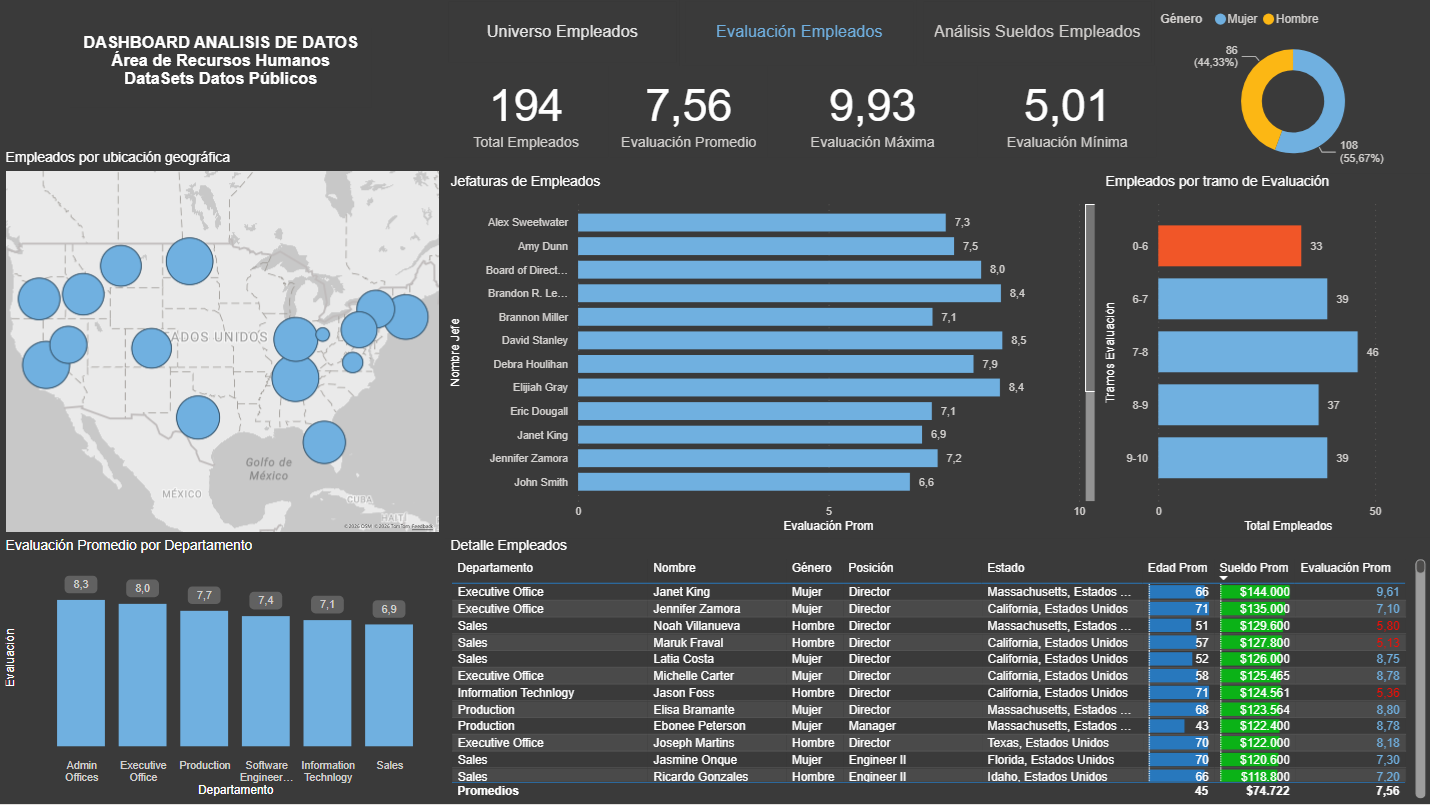

The page's visual inventory and layout, read from the dashboard file:
{"tool":"powerbi","page":{"name":"Evaluación Empleados","canvas":[1280,720],"ordinal":1},"visuals":[{"type":"tableEx","title":"Detalle Empleados","fields":{"Values":["Tabla Empleados.Departamento","Tabla Empleados.Nombre","Tabla Empleados.Géneros","Tabla Empleados.Posición","Tabla Empleados.Estado","Tabla Empleados.Edad Prom","Tabla Sueldo.Sueldo Promedio","Tabla Evaluacion.Evaluación Promedio"]},"box":[397.7,482.9,881.9,237.6],"z":0},{"type":"card","fields":{"Values":["Tabla Empleados.Total Empleados"]},"box":[397.5,61,146.9,81.7],"z":1000},{"type":"donutChart","fields":{"Category":["Tabla Empleados.Género_ES"],"Y":["Tabla Empleados.Total Empleados"]},"box":[1032.7,0,246.8,157.5],"z":2000},{"type":"card","fields":{"Values":["Max(Tabla Evaluacion.Evaluación)"]},"box":[686.9,61,187.2,81.7],"z":3000},{"type":"card","fields":{"Values":["Tabla Evaluacion.Evaluación "]},"box":[545.2,60.6,140.8,81.8],"z":4000},{"type":"card","fields":{"Values":["Min(Tabla Evaluacion.Evaluación)"]},"box":[874.9,61,159.7,81.7],"z":5000},{"type":"barChart","title":"Jefaturas de Empleados","fields":{"Category":["Tabla Empleados.Nombre Jefe"],"Y":["Tabla Evaluacion.Evaluación Prom"]},"box":[398.2,157.5,586,325.6],"z":6000},{"type":"azureMap","title":"Empleados por ubicación geográfica","fields":{"Category":["Tabla Empleados.Estado"],"Size":["Tabla Evaluacion.Evaluación Prom"]},"box":[0,135.6,397.7,347.3],"z":7000},{"type":"columnChart","title":"Evaluación Promedio por Departamento","fields":{"Category":["Tabla Empleados.Departamento"],"Y":["Tabla Evaluacion.Evaluación Prom"]},"box":[0,482.9,397.7,236.3],"z":8000},{"type":"barChart","title":"Empleados por tramo de Evaluación","fields":{"Category":["Tabla Evaluacion.Tramos Evaluación"],"Y":["Tabla Empleados.Total Empleados"]},"box":[983.9,157.5,295.7,325.4],"z":10000},{"type":"textbox","box":[63,27,269.9,71],"z":11000},{"type":"actionButton","title":" ","box":[397.7,0,210,60.8],"z":12000},{"type":"actionButton","title":" ","box":[610.1,0,210,60.7],"z":13000},{"type":"actionButton","title":" ","box":[822.5,0,210,60.7],"z":14000}]}

Visuals, with their boxes in screenshot pixels (x1, y1, x2, y2), scaled from the page's 1280x720 canvas onto the 1430x805 screenshot:
"Detalle Empleados" tableEx: left=444, top=540, right=1429, bottom=804
card - Tabla Empleados.Total Empleados: left=444, top=68, right=608, bottom=160
donutChart - Tabla Empleados.Género_ES x Tabla Empleados.Total Empleados: left=1154, top=0, right=1429, bottom=176
card - Max(Tabla Evaluacion.Evaluación): left=767, top=68, right=977, bottom=160
card - Tabla Evaluacion.Evaluación : left=609, top=68, right=766, bottom=159
card - Min(Tabla Evaluacion.Evaluación): left=977, top=68, right=1156, bottom=160
"Jefaturas de Empleados" barChart: left=445, top=176, right=1100, bottom=540
"Empleados por ubicación geográfica" azureMap: left=0, top=152, right=444, bottom=540
"Evaluación Promedio por Departamento" columnChart: left=0, top=540, right=444, bottom=804
"Empleados por tramo de Evaluación" barChart: left=1099, top=176, right=1429, bottom=540
textbox: left=70, top=30, right=372, bottom=110
" " actionButton: left=444, top=0, right=679, bottom=68
" " actionButton: left=682, top=0, right=916, bottom=68
" " actionButton: left=919, top=0, right=1153, bottom=68
